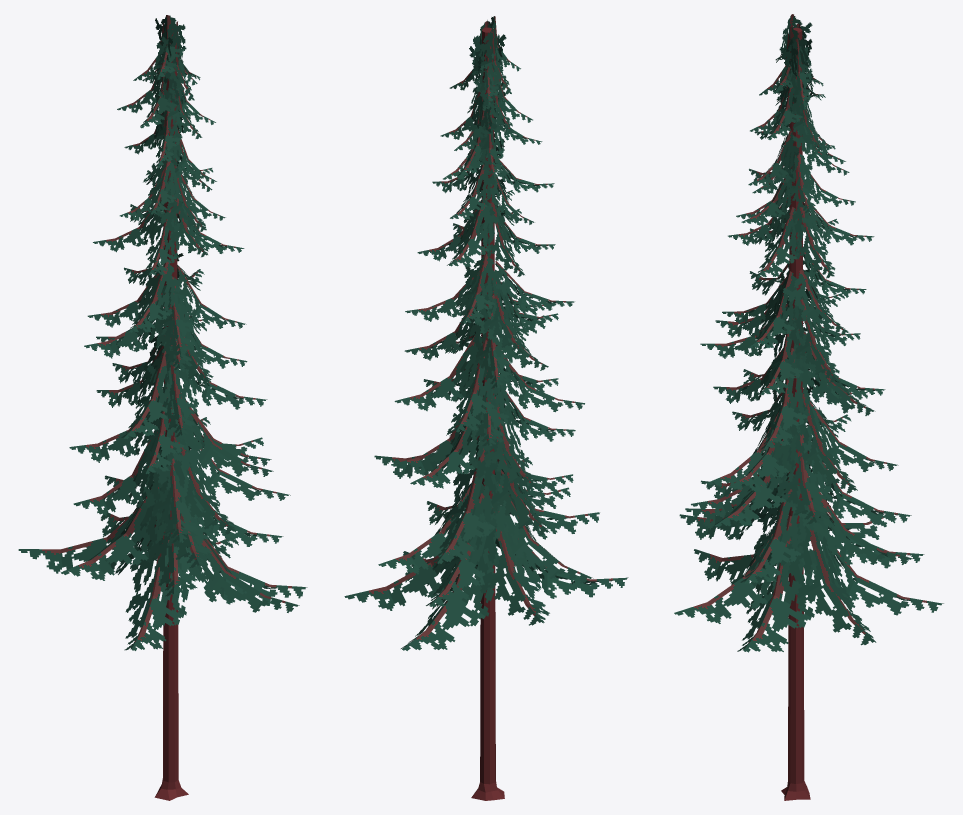
Rendered from Tree_Pine_Tall.fbx.
3 renders of one model, left to right at view 1: azimuth 30°, elevation 25°; view 2: azimuth 150°, elevation 25°; view 3: azimuth 270°, elevation 25°, orthographic.
Parts seen in each view (by area): view 1: Cube, Pine_Branch.002, Pine_Branch.009, Pine_Branch.005, Pine_Branch.008, Pine_Branch.014, Pine_Branch.017, Pine_Branch.026, Pine_Branch.011, Pine_Branch.029, Pine_Branch.003, Pine_Branch.038 (+28 smaller); view 2: Cube, Pine_Branch.003, Pine_Branch.012, Pine_Branch, Pine_Branch.006, Pine_Branch.015, Pine_Branch.009, Pine_Branch.004, Pine_Branch.021, Pine_Branch.024, Pine_Branch.028, Pine_Branch.036 (+29 smaller); view 3: Cube, Pine_Branch.004, Pine_Branch.001, Pine_Branch.007, Pine_Branch.016, Pine_Branch.005, Pine_Branch, Pine_Branch.025, Pine_Branch.022, Pine_Branch.010, Pine_Branch.034, Pine_Branch.013 (+32 smaller).
Part boxes in pixels (x1,y1,x2,y2): Cube: [154, 29, 188, 800]; Pine_Branch.002: [124, 531, 188, 650]; Pine_Branch.009: [61, 482, 159, 580]; Pine_Branch.005: [165, 521, 299, 612]; Pine_Branch.008: [137, 480, 204, 596]; Pine_Branch.014: [141, 445, 202, 542]; Pine_Branch.017: [152, 437, 236, 534]; Pine_Branch.026: [121, 351, 186, 438]; Pine_Branch.011: [143, 476, 213, 567]; Pine_Branch.029: [147, 345, 198, 437]; Pine_Branch.003: [18, 506, 150, 573]; Pine_Branch.038: [126, 261, 181, 332]; Cube: [471, 27, 504, 800]; Pine_Branch.003: [462, 506, 549, 625]; Pine_Branch.012: [433, 448, 505, 563]; Pine_Branch: [401, 529, 500, 650]; Pine_Branch.006: [426, 493, 506, 607]; Pine_Branch.015: [470, 428, 549, 535]; Pine_Branch.009: [478, 483, 593, 583]; Pine_Branch.004: [344, 541, 460, 610]; Pine_Branch.021: [468, 396, 537, 490]; Pine_Branch.024: [452, 340, 502, 432]; Pine_Branch.028: [394, 333, 484, 411]; Pine_Branch.036: [459, 253, 501, 323]; Cube: [781, 27, 810, 800]; Pine_Branch.004: [778, 518, 876, 645]; Pine_Branch.001: [737, 515, 817, 652]; Pine_Branch.007: [740, 478, 808, 583]; Pine_Branch.016: [764, 434, 831, 524]; Pine_Branch.005: [674, 516, 796, 623]; Pine_Branch: [801, 540, 943, 615]; Pine_Branch.025: [760, 347, 812, 449]; Pine_Branch.022: [780, 393, 857, 493]; Pine_Branch.010: [792, 476, 913, 564]; Pine_Branch.034: [780, 298, 839, 382]; Pine_Branch.013: [715, 439, 798, 526].
Bounding box in the file's own units: 1793 × 5598 × 1875.
